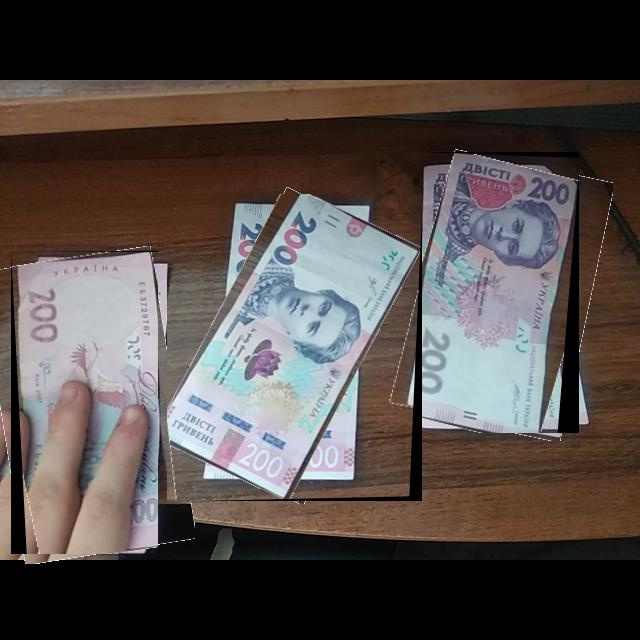200uah: (167, 194, 422, 500), (419, 154, 579, 434), (16, 252, 159, 555)
